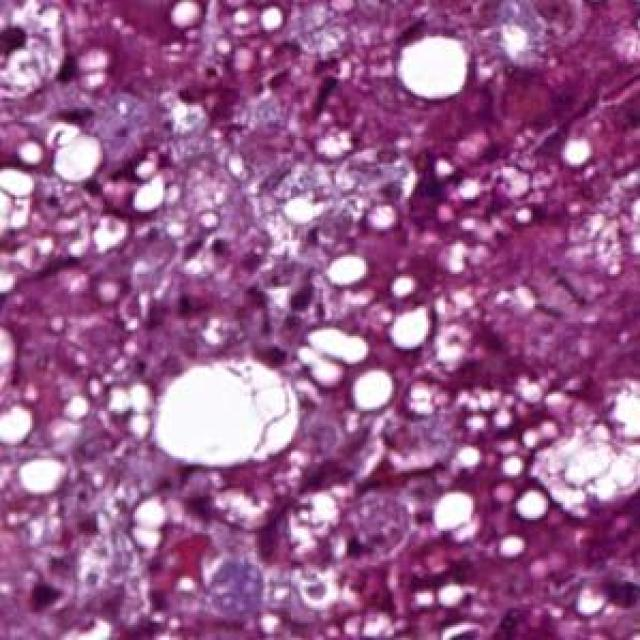ballooning: (152, 353, 304, 471), (526, 374, 640, 524)
